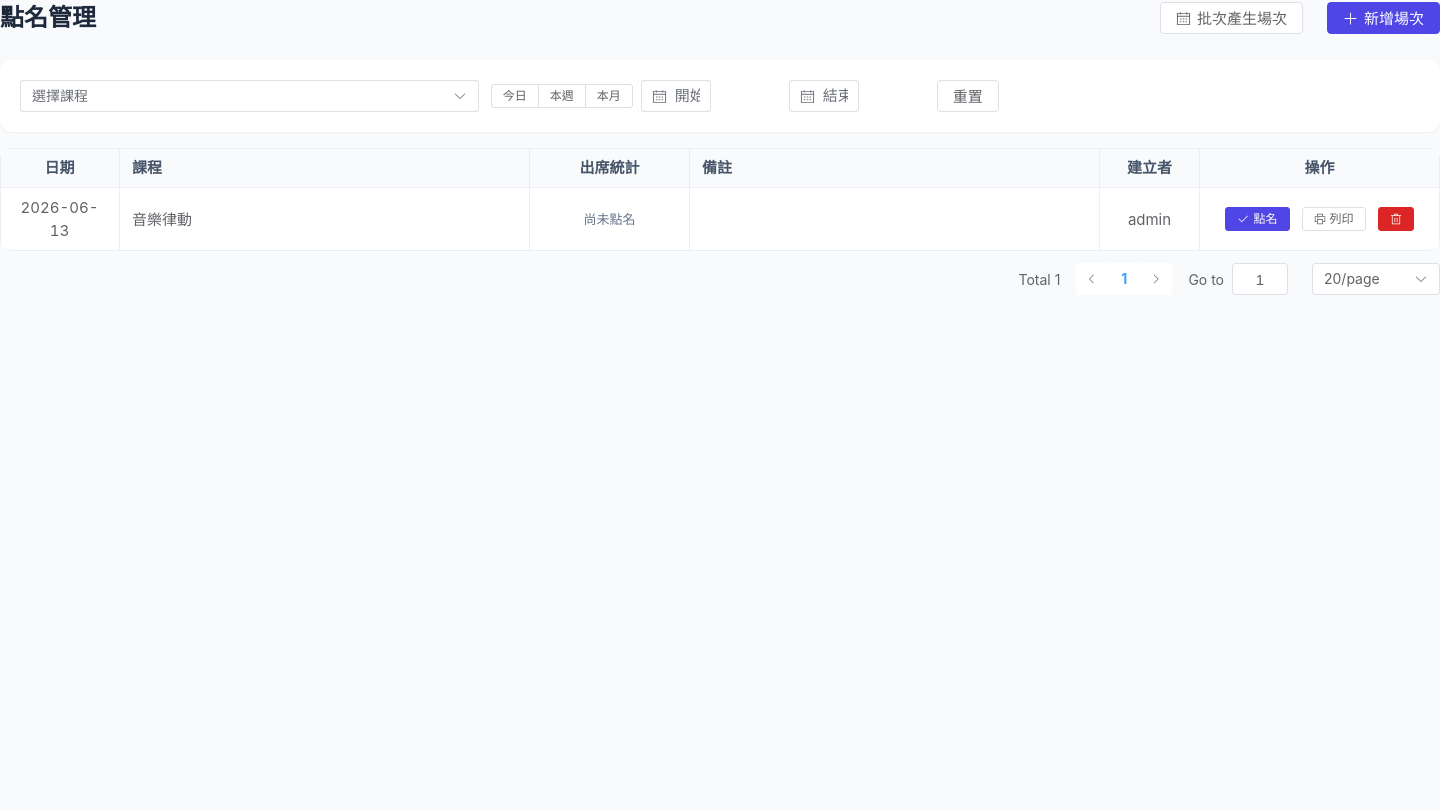
Test case: ActivityAttendanceView — drawer 寫入按鈕蓋 canWrite（A2） › 有寫入權限時按鈕照常顯示
This screenshot has width=1440, height=810.
Click the button "點名" at {"x": 1258, "y": 220}, box x1=1226 y1=208 x2=1290 y2=232
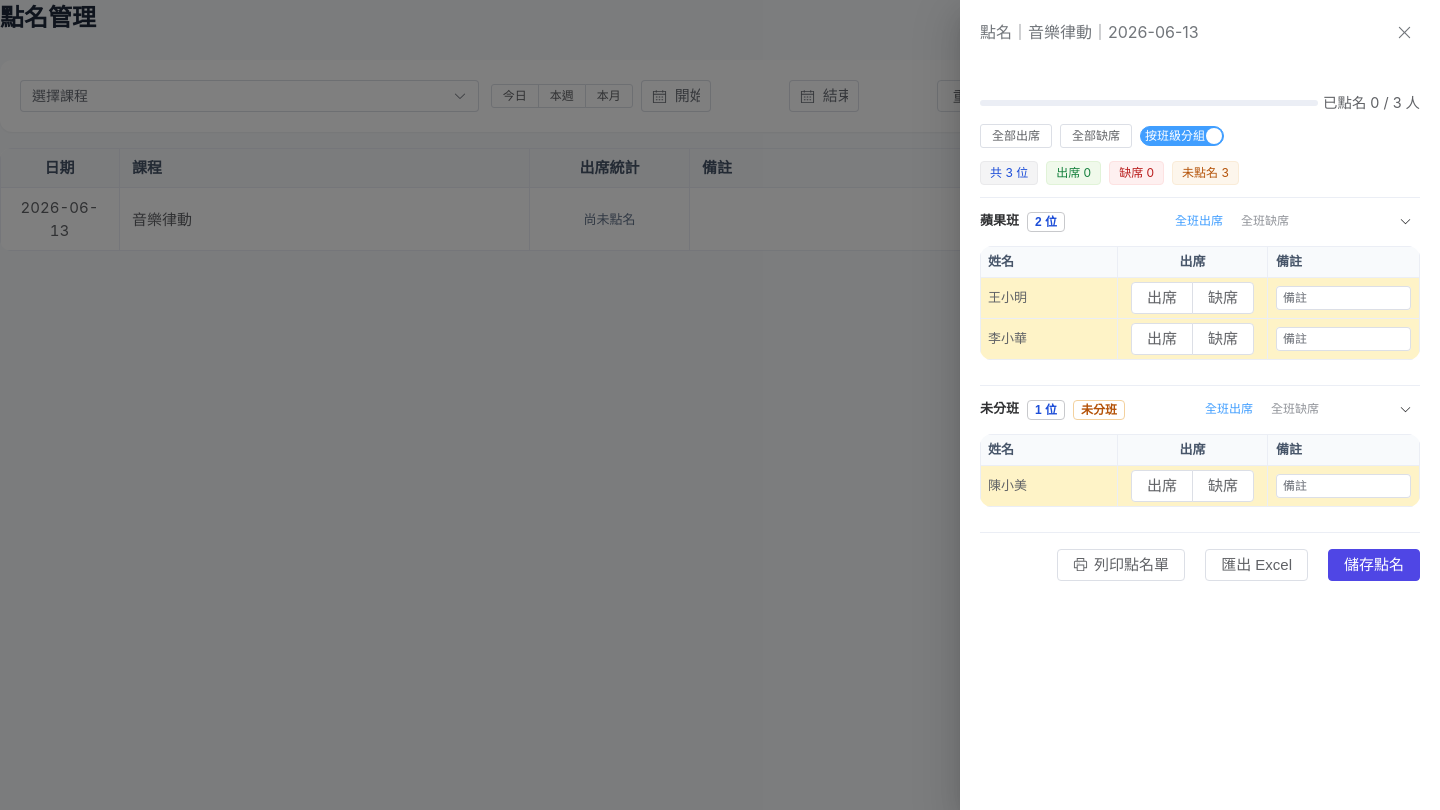
expect the text "儲存點名" is shown: met, box x1=1344 y1=557 x2=1404 y2=572
expect the text "全部出席" is shown: met, box x1=992 y1=130 x2=1040 y2=142
expect the 1st text "全班出席" is shown: met, box x1=1175 y1=215 x2=1223 y2=227
